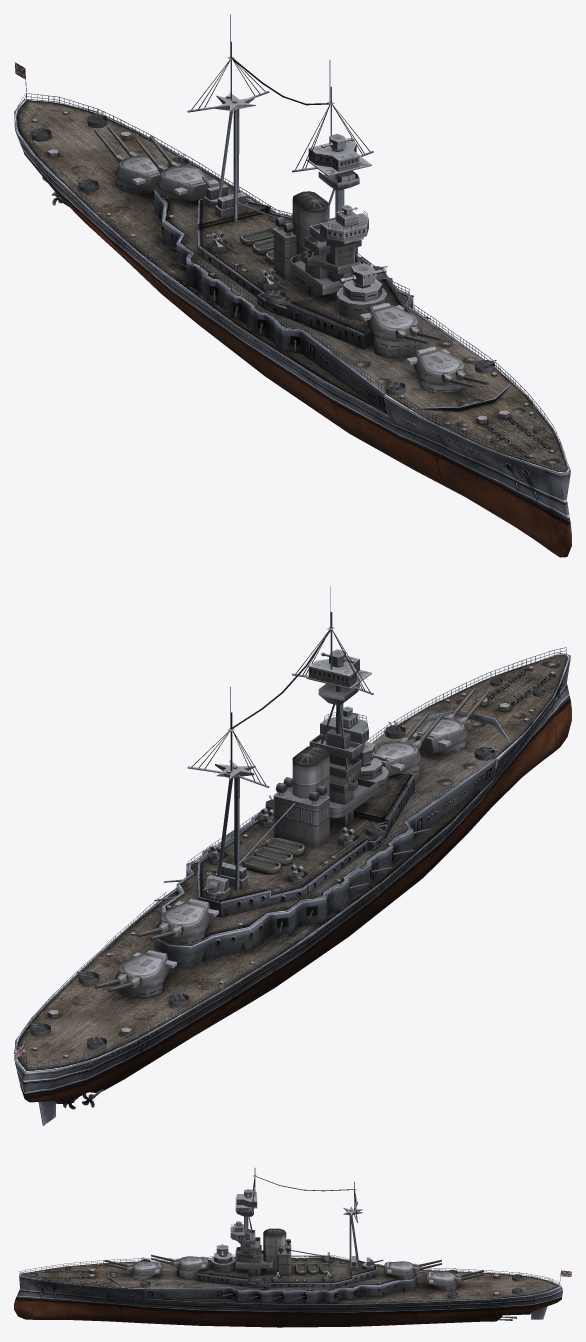
Rendered from UK_ROYAL_SOVEREIGN.FBX.
3 views of the same model, one above another, from view 1: azimuth 30°, elevation 25°; view 2: azimuth 150°, elevation 25°; view 3: azimuth 270°, elevation 25° (orthographic). The views are drawn at different scales.
Parts seen in each view (by area): view 1: UK_ROYAL_SOVEREIGN, UK_ROYAL_SOVEREIGN_barbette02, UK_ROYAL_SOVEREIGN_barbette01, UK_ROYAL_SOVEREIGN_barbette03, UK_ROYAL_SOVEREIGN_barbette04; view 2: UK_ROYAL_SOVEREIGN, UK_ROYAL_SOVEREIGN_barbette04, UK_ROYAL_SOVEREIGN_barbette03, UK_ROYAL_SOVEREIGN_barbette01, UK_ROYAL_SOVEREIGN_barbette02; view 3: UK_ROYAL_SOVEREIGN, UK_ROYAL_SOVEREIGN_barbette02, UK_ROYAL_SOVEREIGN_barbette03, UK_ROYAL_SOVEREIGN_barbette01, UK_ROYAL_SOVEREIGN_barbette04.
Boxes of the visible parts, bbox=[...] form: UK_ROYAL_SOVEREIGN: bbox=[14, 14, 571, 557]; UK_ROYAL_SOVEREIGN_barbette02: bbox=[360, 302, 422, 341]; UK_ROYAL_SOVEREIGN_barbette01: bbox=[406, 346, 468, 385]; UK_ROYAL_SOVEREIGN_barbette03: bbox=[157, 161, 218, 200]; UK_ROYAL_SOVEREIGN_barbette04: bbox=[115, 151, 161, 190]; UK_ROYAL_SOVEREIGN: bbox=[14, 586, 571, 1125]; UK_ROYAL_SOVEREIGN_barbette04: bbox=[115, 950, 176, 989]; UK_ROYAL_SOVEREIGN_barbette03: bbox=[156, 899, 218, 937]; UK_ROYAL_SOVEREIGN_barbette01: bbox=[410, 713, 468, 752]; UK_ROYAL_SOVEREIGN_barbette02: bbox=[375, 737, 421, 776]; UK_ROYAL_SOVEREIGN: bbox=[14, 1168, 571, 1327]; UK_ROYAL_SOVEREIGN_barbette02: bbox=[173, 1256, 208, 1271]; UK_ROYAL_SOVEREIGN_barbette03: bbox=[384, 1261, 419, 1276]; UK_ROYAL_SOVEREIGN_barbette01: bbox=[127, 1261, 162, 1276]; UK_ROYAL_SOVEREIGN_barbette04: bbox=[426, 1271, 461, 1286].
Size of the model in its own units: 21.18 by 42.56 by 129.
Materials: 2 (2 with a texture image).
